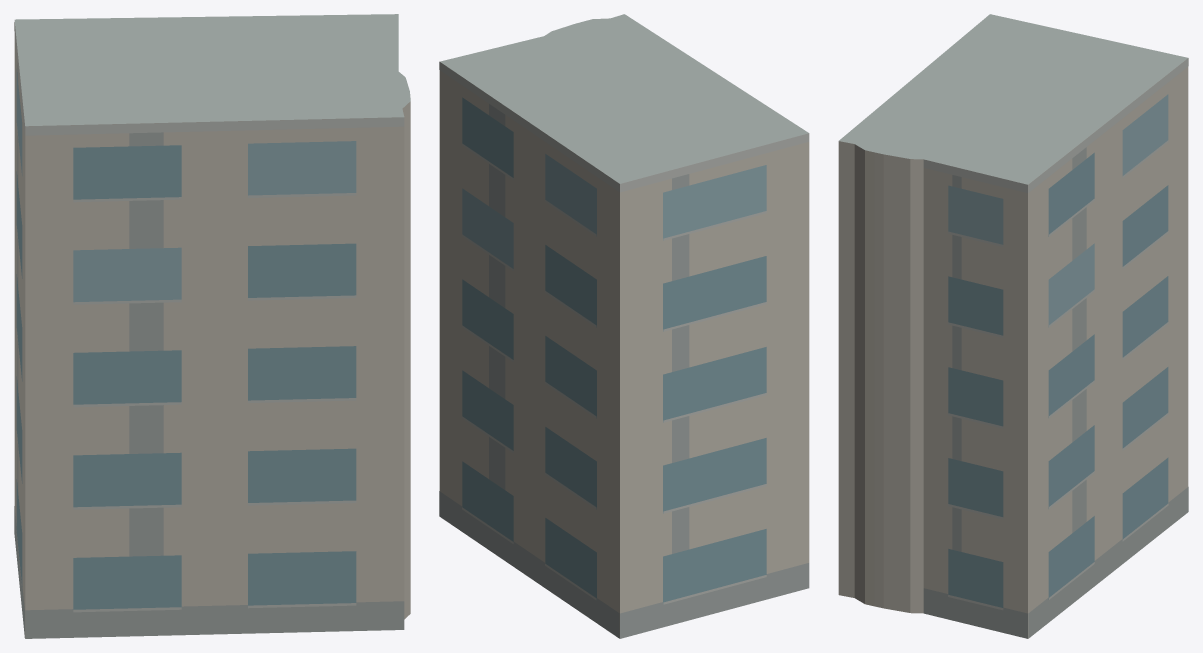
Rendered from survey-upis-32725394.glb.
3 views of the same model, side by side, from view 1: azimuth 30°, elevation 25°; view 2: azimuth 150°, elevation 25°; view 3: azimuth 270°, elevation 25° (orthographic). The views are drawn at different scales.
Visible parts, largest first — view 1: survey-upis-32725394.tmp; view 2: survey-upis-32725394.tmp; view 3: survey-upis-32725394.tmp.
Part boxes in pixels (<box>): survey-upis-32725394.tmp: <box>14,14,410,638</box>; survey-upis-32725394.tmp: <box>439,14,809,638</box>; survey-upis-32725394.tmp: <box>838,14,1188,638</box>.
Bounding box in the file's own units: 10.58 × 13.1 × 9.16.
